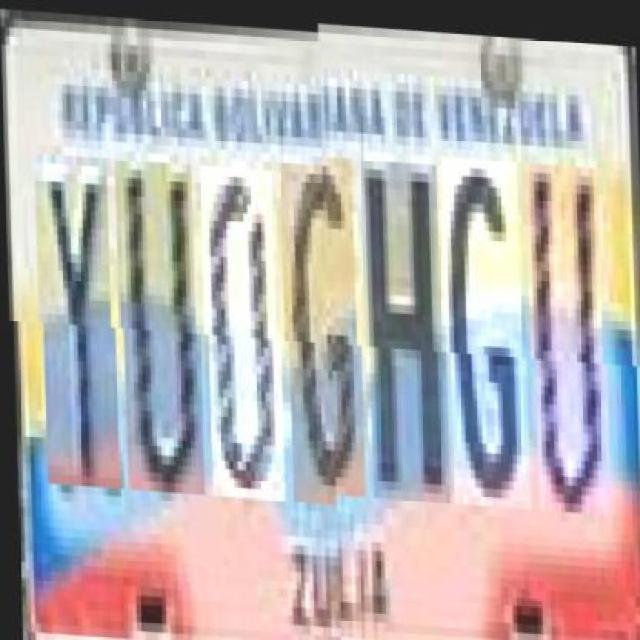0: (202, 162, 282, 496)
g: (444, 159, 528, 510), (283, 158, 363, 500)
h: (363, 162, 448, 506)
u: (528, 163, 608, 514), (118, 158, 202, 492)
y: (38, 152, 118, 486)
